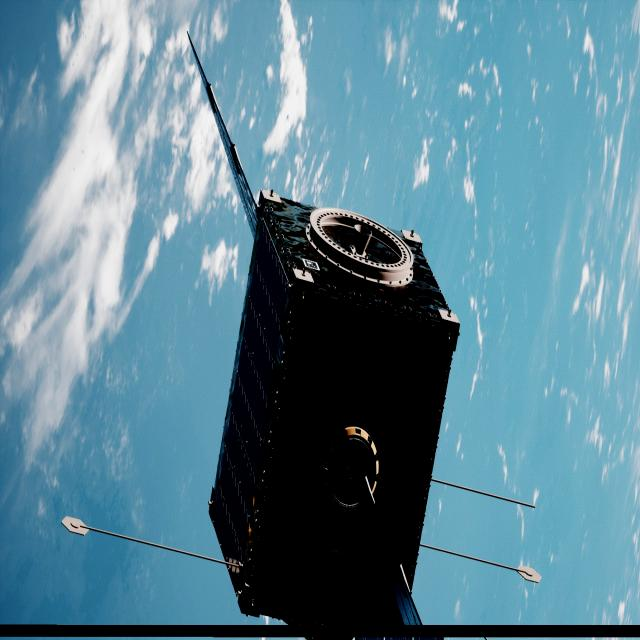satellite: (202, 70, 462, 640)
